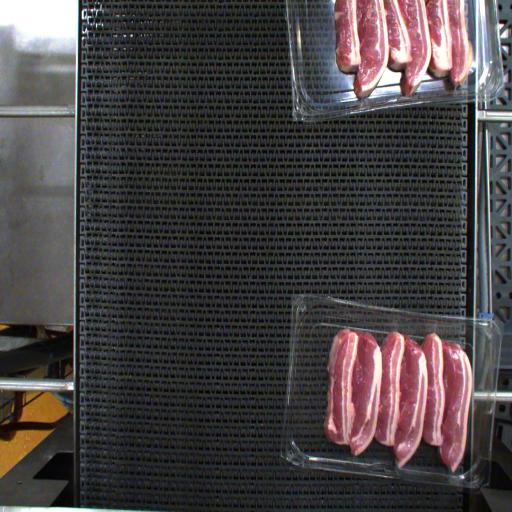packaging-error: (428, 320, 439, 336)
